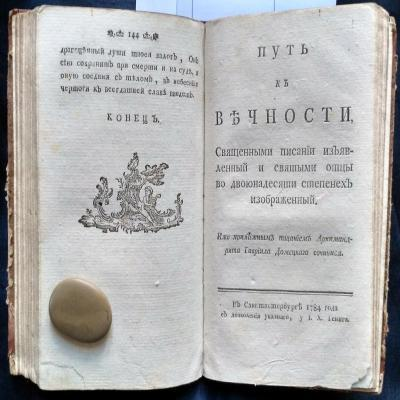rare_books: (1, 3, 400, 400)
